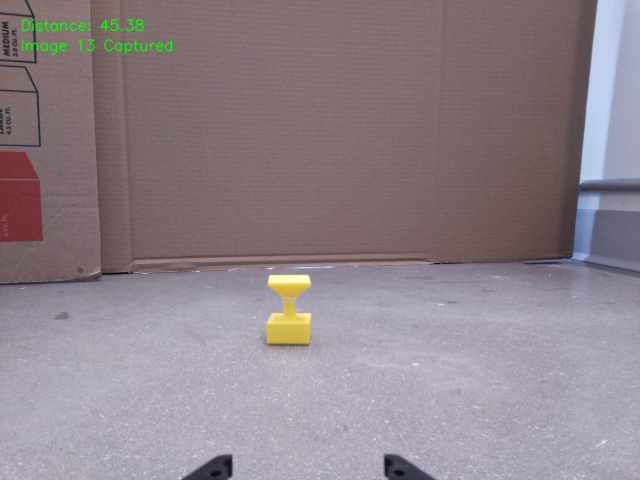block: (265, 274, 314, 346)
